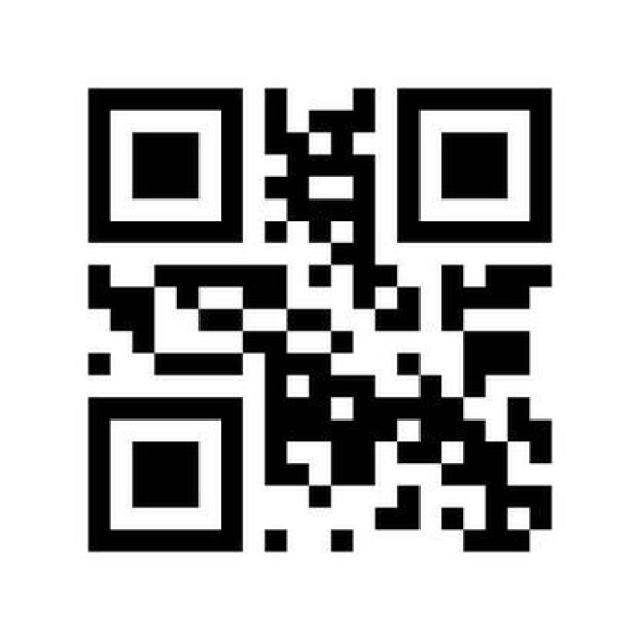QRCode: (79, 76, 575, 561)
